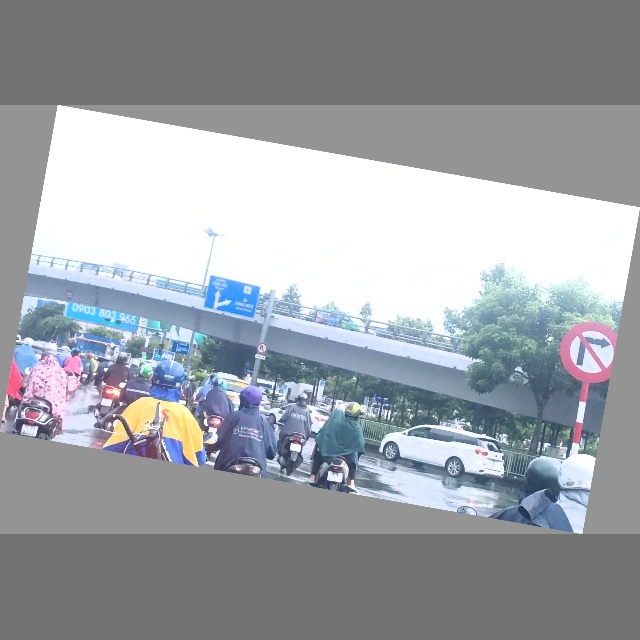P.123b: (554, 317, 619, 388)
P.124b1: (256, 343, 268, 356)
